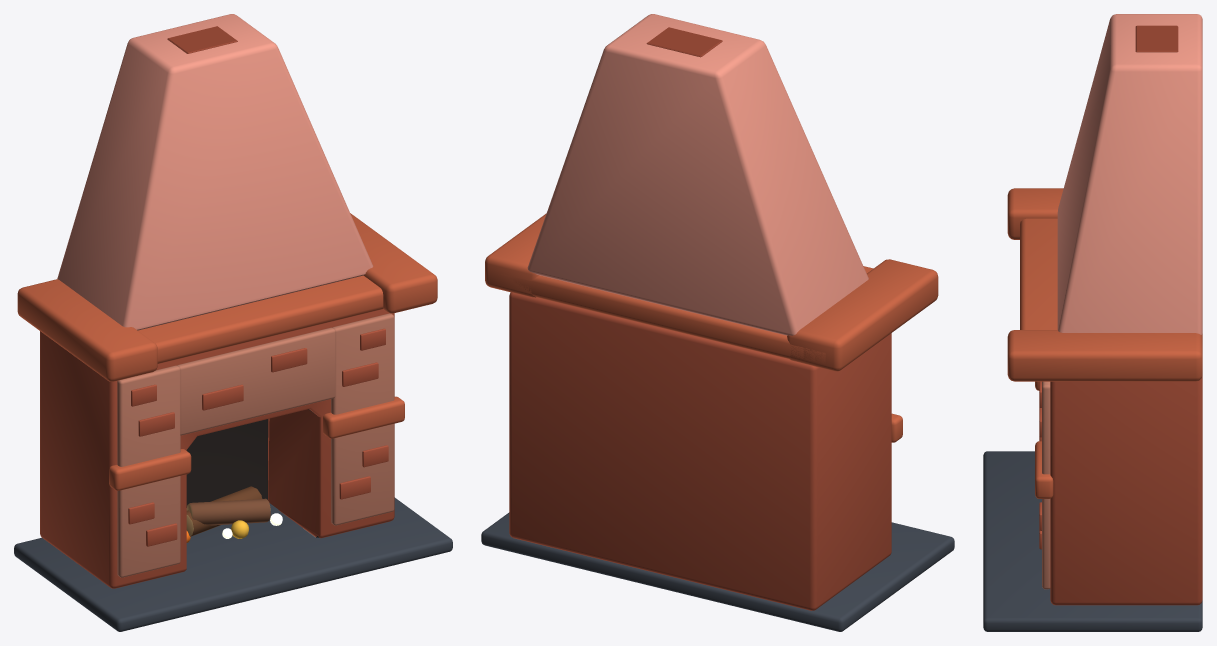
Rendered from lareira_tijolo_coifa_rosada.glb.
3 views of the same model, side by side, from view 1: azimuth 30°, elevation 25°; view 2: azimuth 150°, elevation 25°; view 3: azimuth 270°, elevation 25° (orthographic). The views are drawn at different scales.
Parts seen in each view (by area): view 1: lareira_tijolo_coifa_rosada; view 2: lareira_tijolo_coifa_rosada; view 3: lareira_tijolo_coifa_rosada.
Part boxes in pixels (bbox=[...]): lareira_tijolo_coifa_rosada: bbox=[14, 14, 452, 631]; lareira_tijolo_coifa_rosada: bbox=[481, 14, 954, 631]; lareira_tijolo_coifa_rosada: bbox=[983, 14, 1202, 631].
Bounding box in the file's own units: 1.32 × 1.85 × 0.72.
2 materials, 1 textured.
